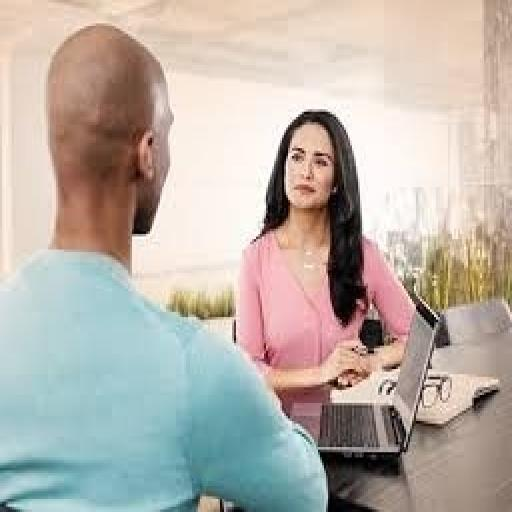sitting: (0, 21, 330, 509), (232, 104, 418, 395)
